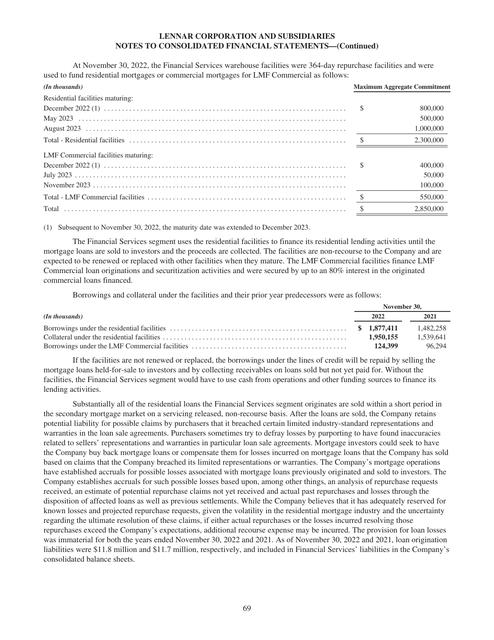box: (41, 83, 450, 218), (41, 291, 451, 351)
